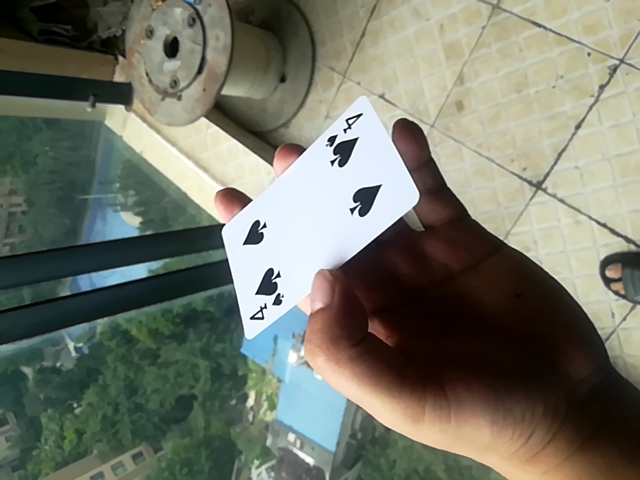ht 4: (209, 97, 421, 353)
